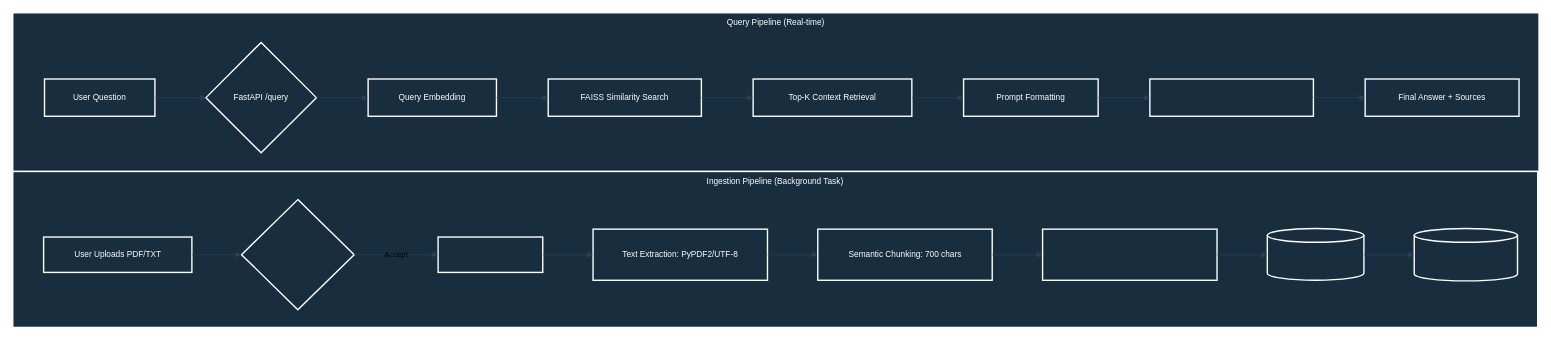
The diagram is 1551 pixels wide and 339 high, and some of its shapes have lost their labels. The box of each missing label's shape, as (x1, y1, x2, y2) in pixels:
Async Worker: (437, 236, 543, 273)
Embedding Model: MiniLM-L6-v2: (1042, 228, 1217, 281)
FAISS Vector Store: (1266, 227, 1364, 281)
FastAPI /upload: (240, 199, 355, 310)
Metadata Hash Map: (1413, 227, 1518, 281)
Mistral-7B LLM Inference: (1149, 78, 1314, 117)
